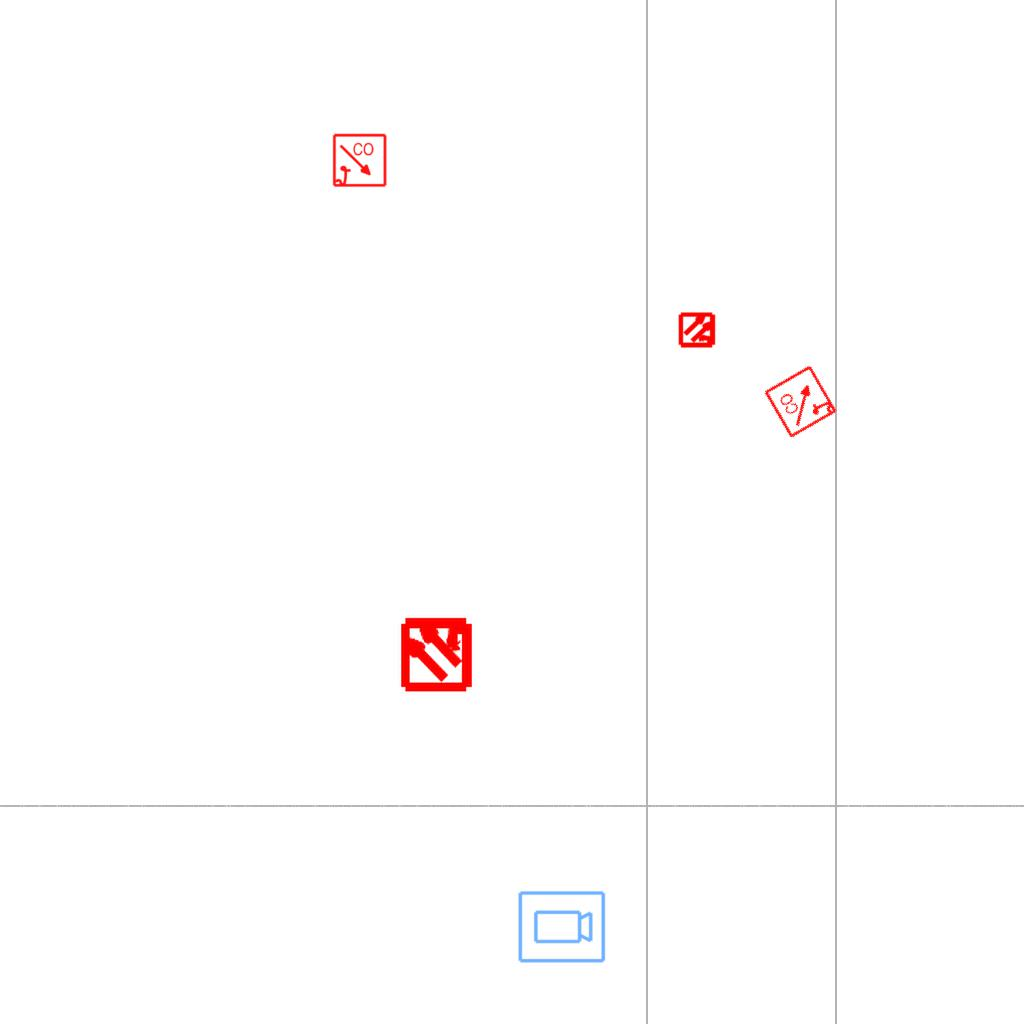KFO_Kamera_mit_Festobjektiv: (516, 889, 607, 966)
OT_Multisensormelder_(Kombination_RMO_WMD): (380, 596, 493, 709), (670, 302, 726, 358)
ROA_Rauchmelder_optisch_mit_Signalgeber_(Sockelsirene): (762, 362, 840, 440), (332, 133, 388, 189)
